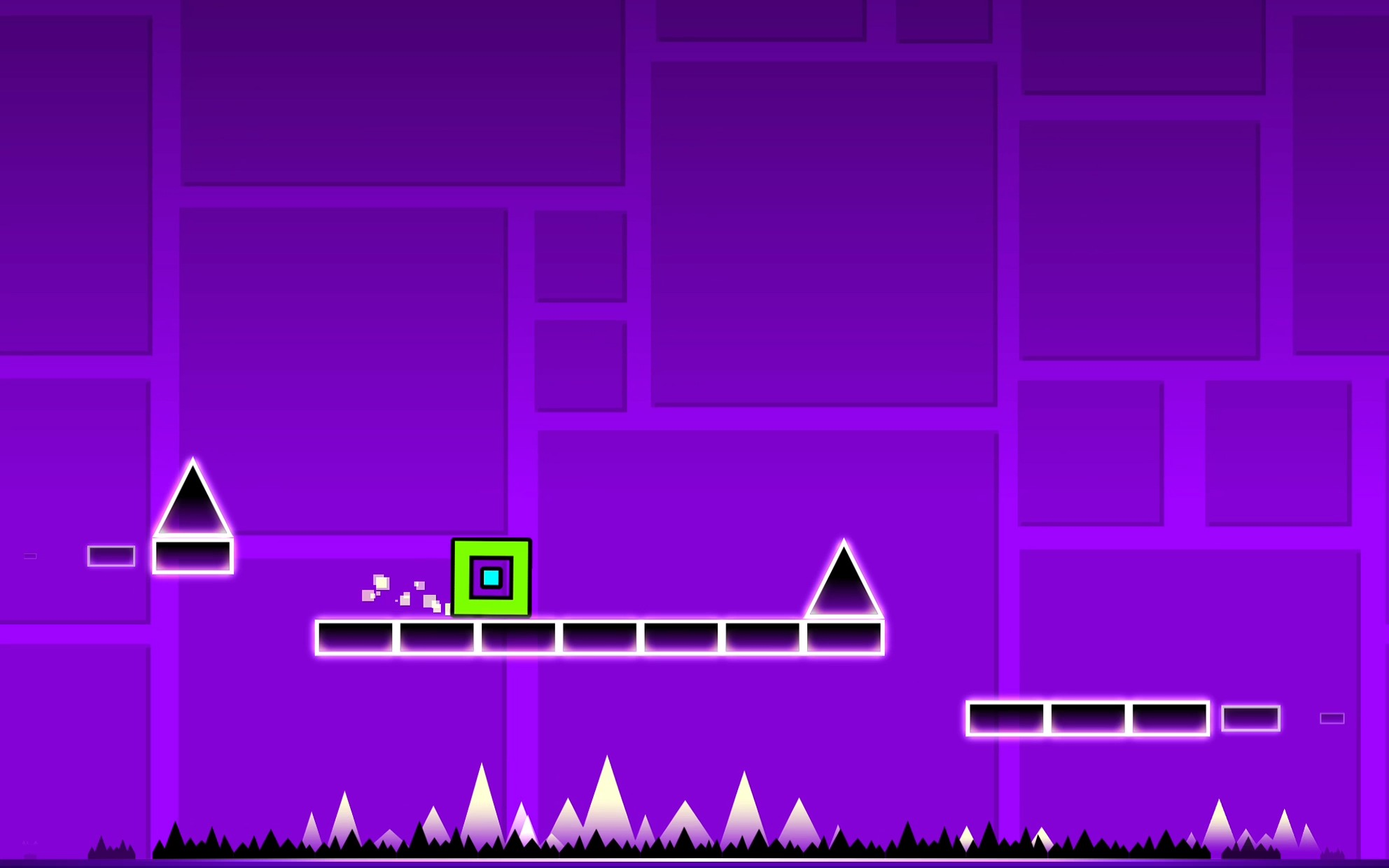Block3: (156, 538, 237, 574), (319, 620, 400, 654), (1133, 701, 1208, 734), (969, 703, 1042, 735), (482, 621, 554, 653), (808, 622, 881, 652), (1051, 704, 1124, 734), (403, 621, 472, 652), (645, 622, 716, 652), (726, 622, 798, 651), (564, 622, 634, 651), (1222, 705, 1279, 731), (89, 548, 135, 569)
Player: (450, 539, 532, 615)
Spike: (808, 540, 887, 617), (159, 458, 235, 538)
Spike2: (74, 819, 1348, 868)
